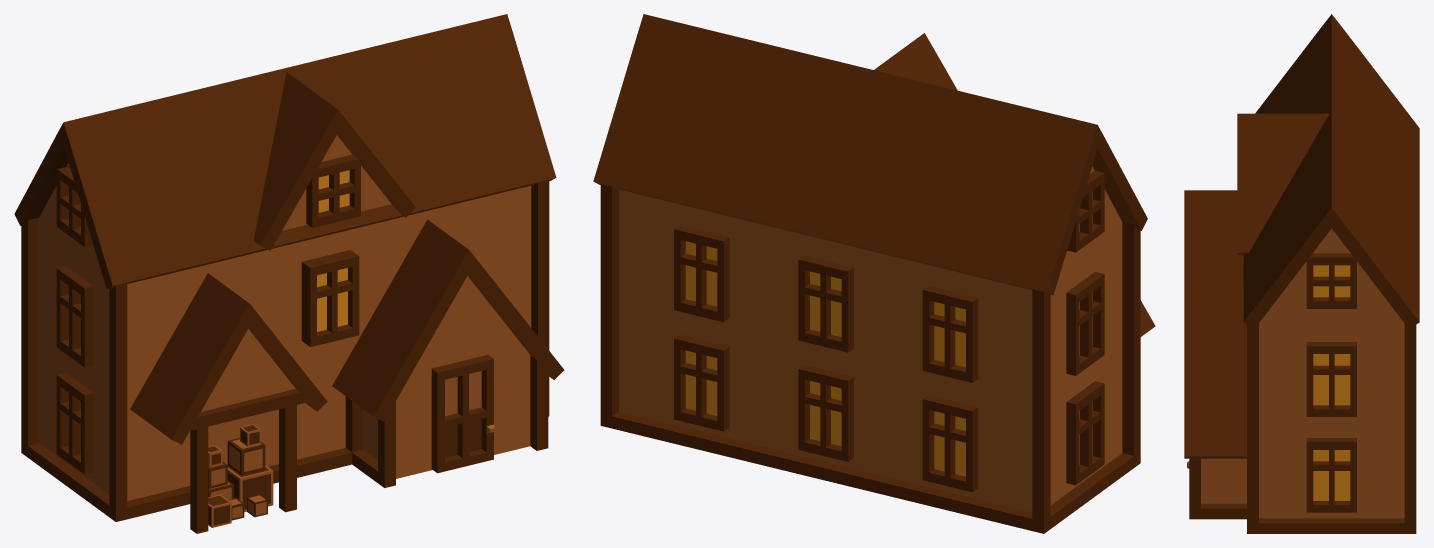
The model's file is City1LivingHouse1.fbx.
3 renders of one model, left to right at view 1: azimuth 30°, elevation 25°; view 2: azimuth 150°, elevation 25°; view 3: azimuth 270°, elevation 25°, orthographic. The views are drawn at different scales.
Visible parts, largest first — view 1: Cube.070; view 2: Cube.070; view 3: Cube.070.
Boxes of the visible parts, box(x1,y1,x2,y2) form: Cube.070: box(14, 14, 564, 533); Cube.070: box(593, 14, 1155, 533); Cube.070: box(1184, 14, 1419, 533).
Size of the model in its own units: 195 by 154 by 100.
